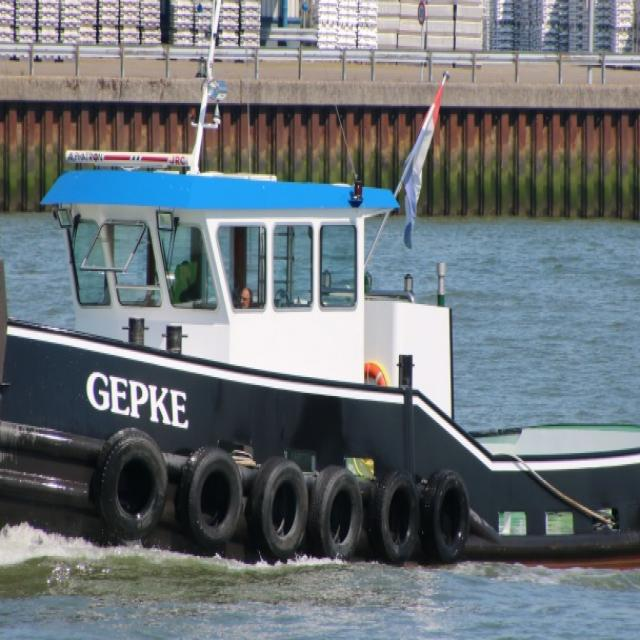tugboat: (1, 133, 640, 595)
